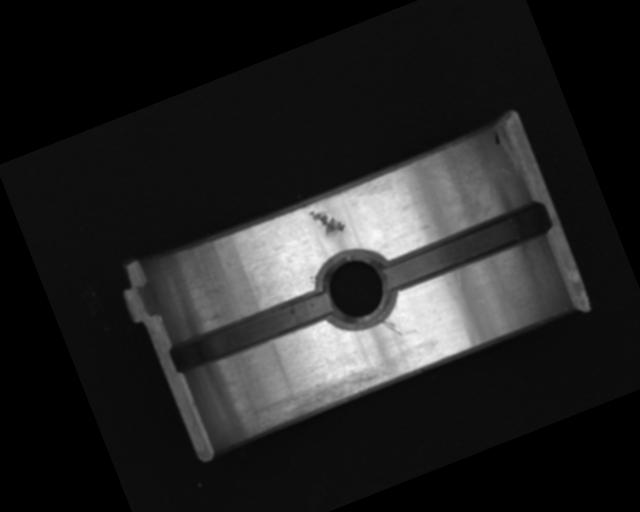blot: (489, 129, 504, 148)
bruise: (306, 200, 349, 245)
gap: (377, 199, 553, 296), (166, 286, 336, 378)
hole: (307, 243, 404, 339)
nick: (380, 314, 402, 340)
scratch: (240, 354, 395, 440)
